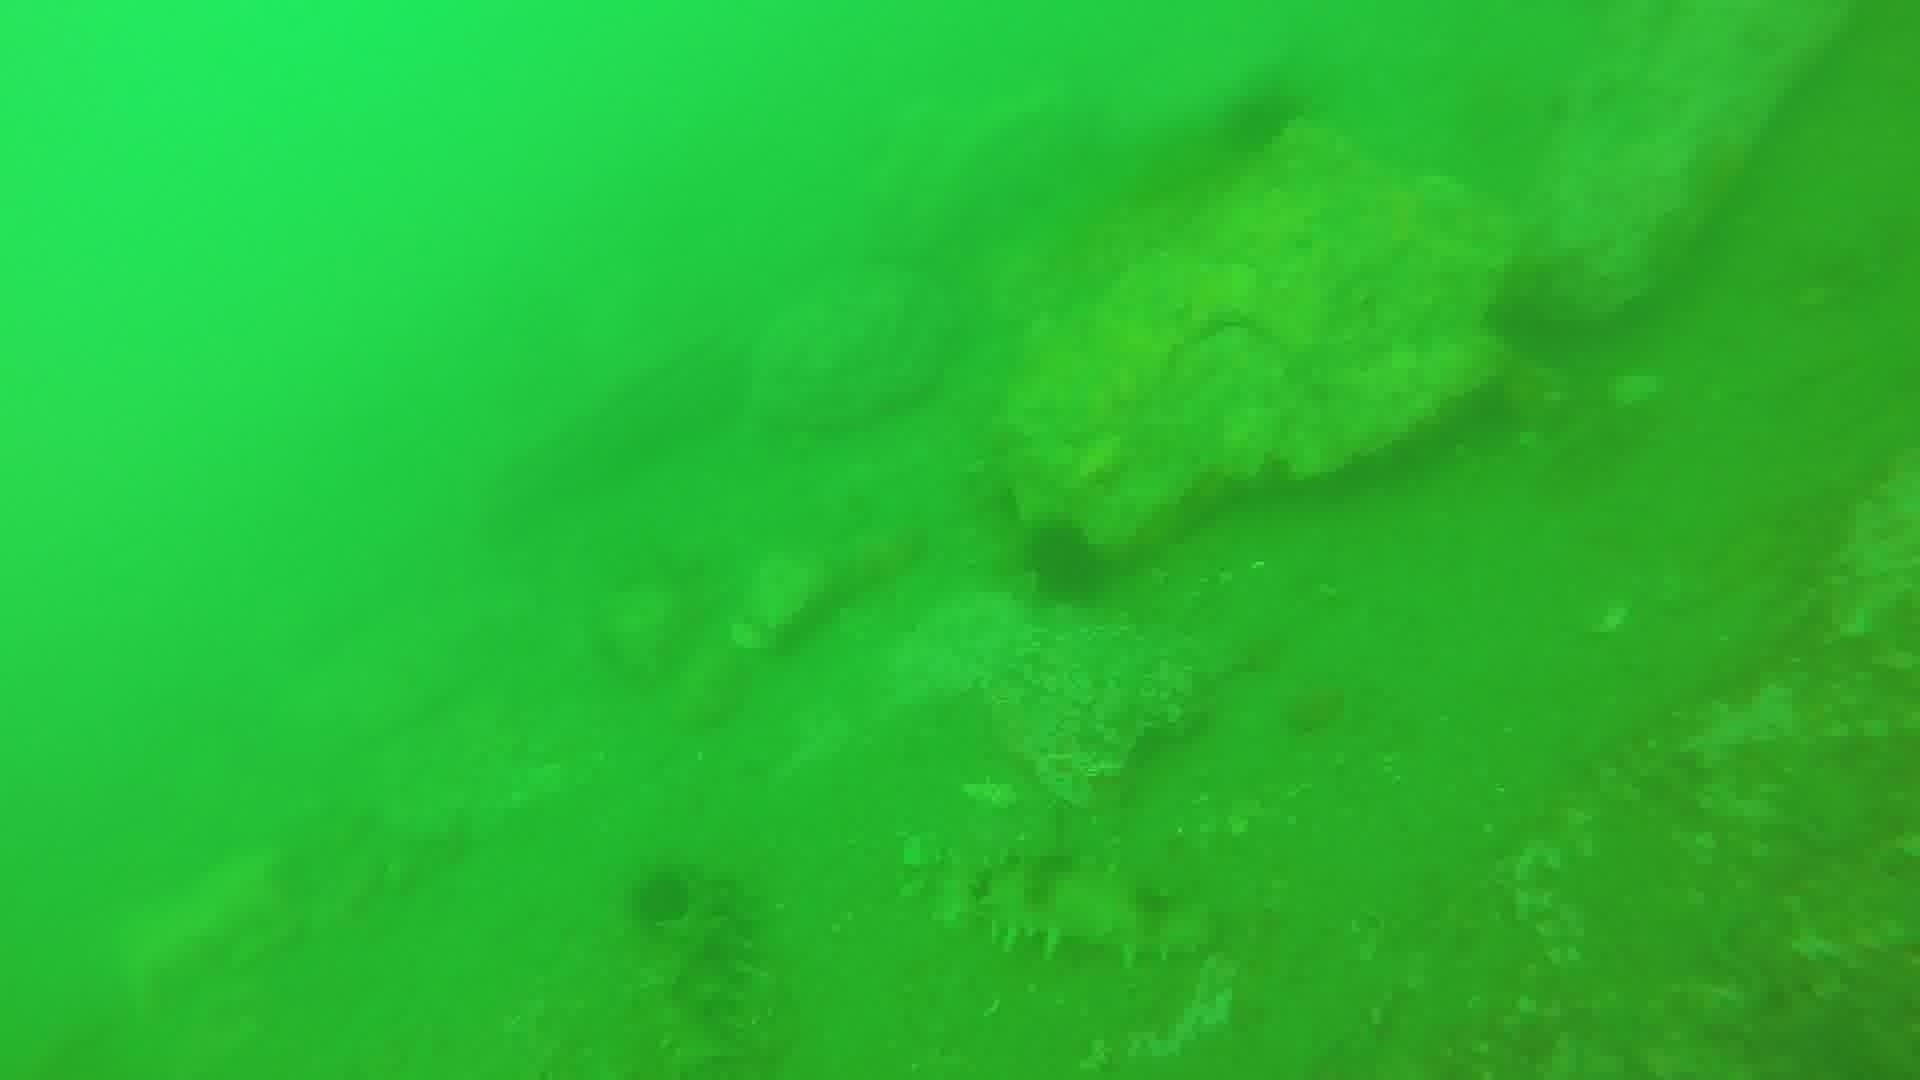echinus: (1015, 514, 1113, 611), (1211, 73, 1311, 162), (622, 862, 702, 934)
holothurian: (98, 793, 473, 1014), (964, 853, 1226, 971), (651, 862, 767, 1073)
